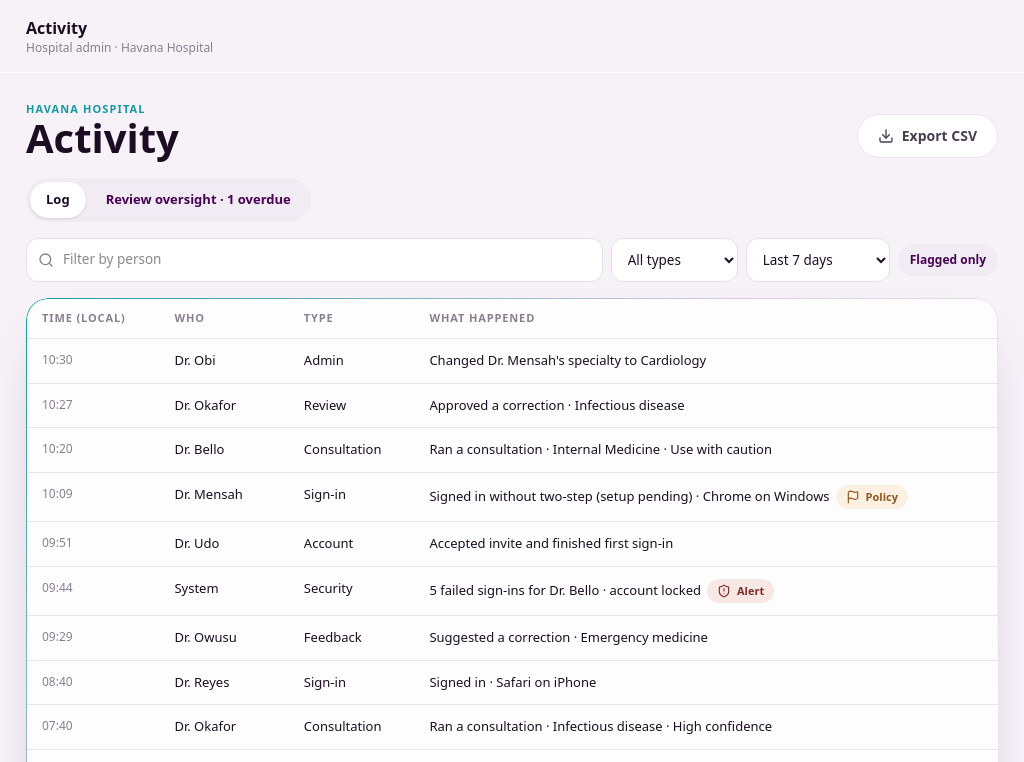
ActivityView › exports every page for the filters as a CSV built in memory
Select "Last 12 months" in the 2nd dropdown named "Dates" at (818, 260), box [746, 238, 890, 282]
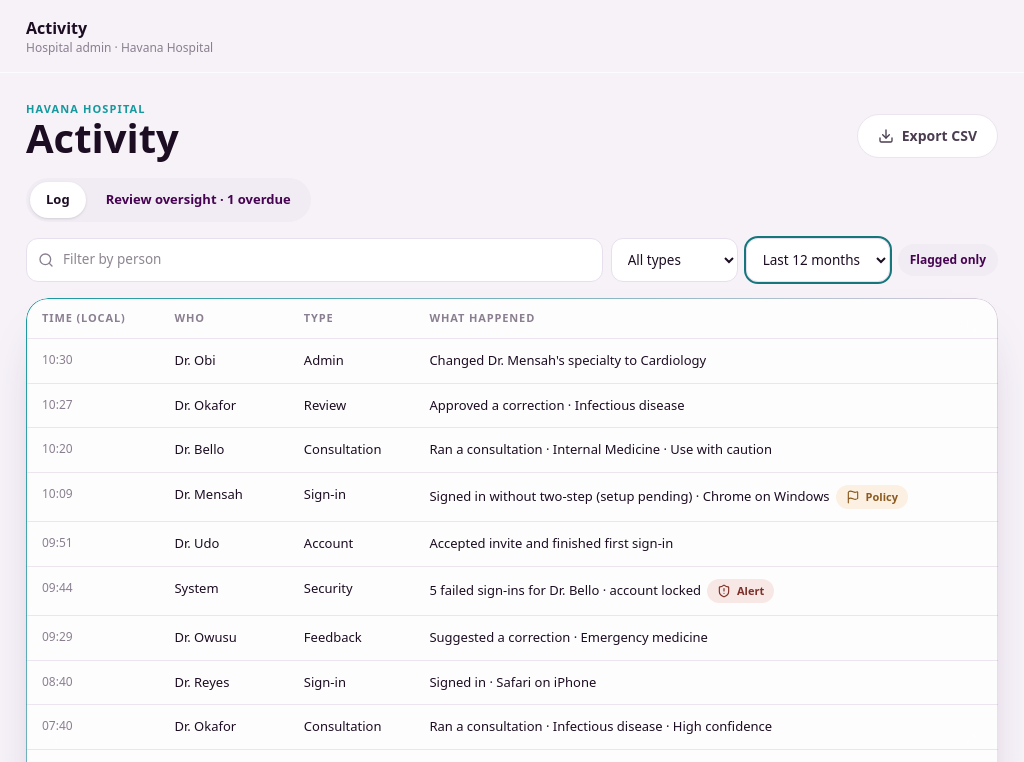
Click the button "Export CSV" at (927, 136), box [857, 114, 998, 158]
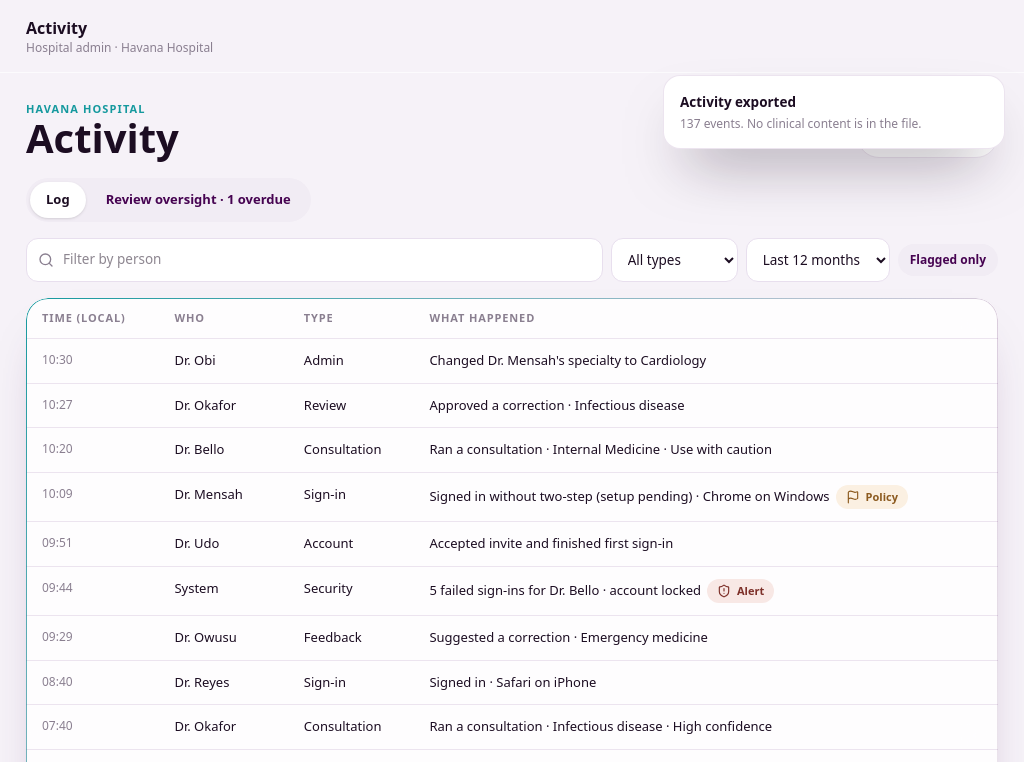
Expected: the text "Activity exported" is shown, [680, 93, 796, 111]
